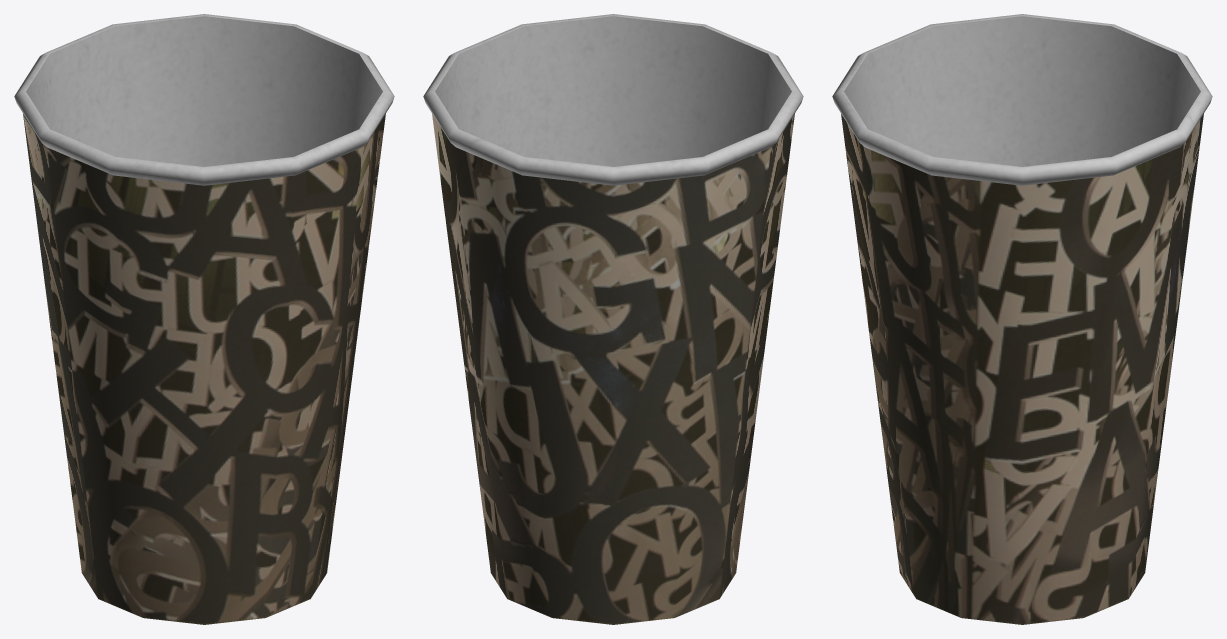
Rendered from FBX_PaperCup.fbx.
The picture shows the model from 3 angles, left to right: view 1: azimuth 30°, elevation 25°; view 2: azimuth 150°, elevation 25°; view 3: azimuth 270°, elevation 25°; orthographic projection.
Parts seen in each view (by area): view 1: SM_PaperCup; view 2: SM_PaperCup; view 3: SM_PaperCup.
Part boxes in pixels (x1,y1,x2,y2): SM_PaperCup: [14, 14, 394, 624]; SM_PaperCup: [423, 14, 803, 624]; SM_PaperCup: [832, 14, 1212, 624].
Bounding box in the file's own units: 0.0931 × 0.13 × 0.0931.
